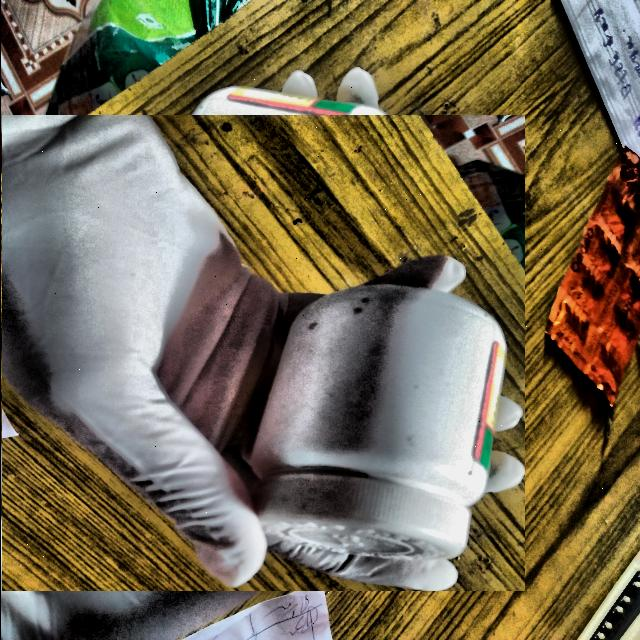gloved: (0, 91, 501, 614)
